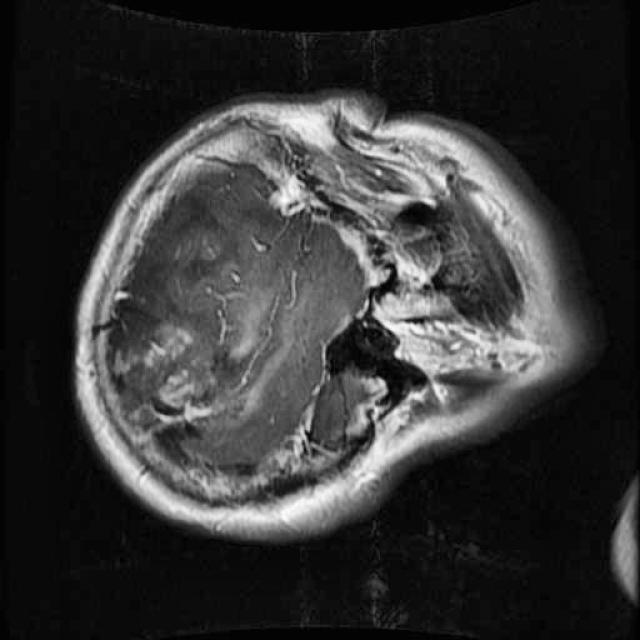Tumor: (88, 300, 241, 460)
